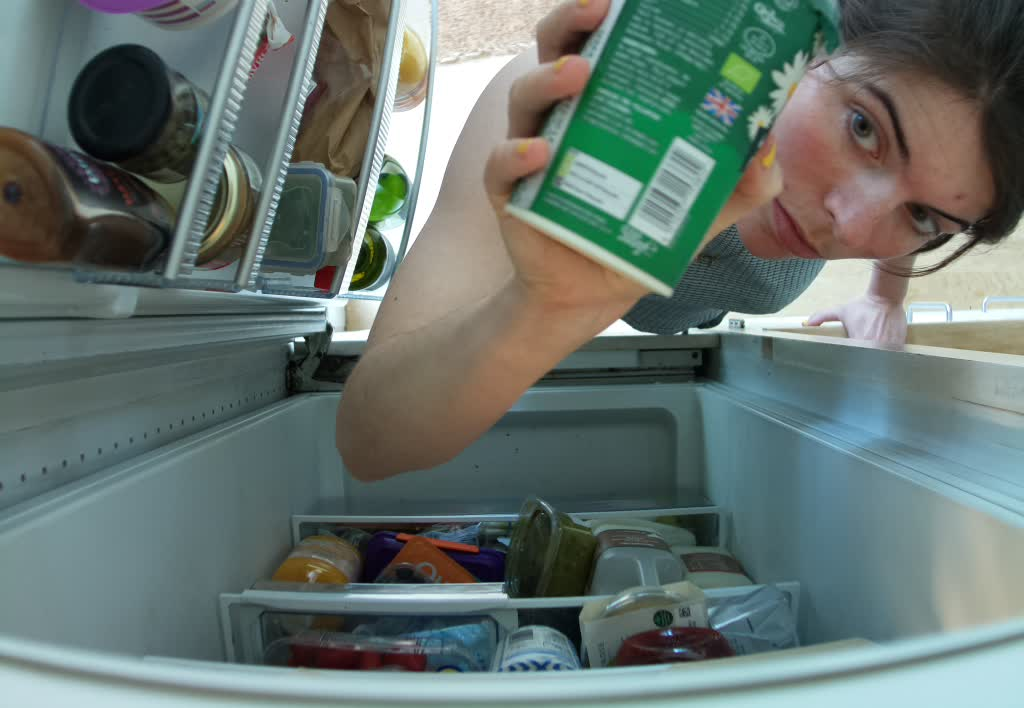yogurt: (505, 1, 840, 301)
